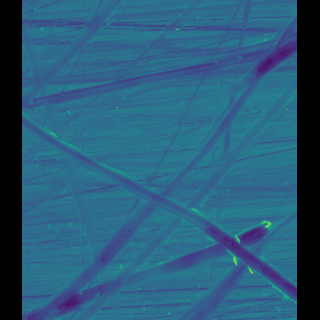Loch: (142, 8, 277, 209), (43, 215, 257, 319), (41, 0, 107, 169)
